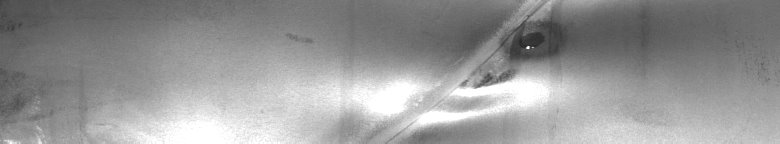ke: (286, 4, 618, 136)
